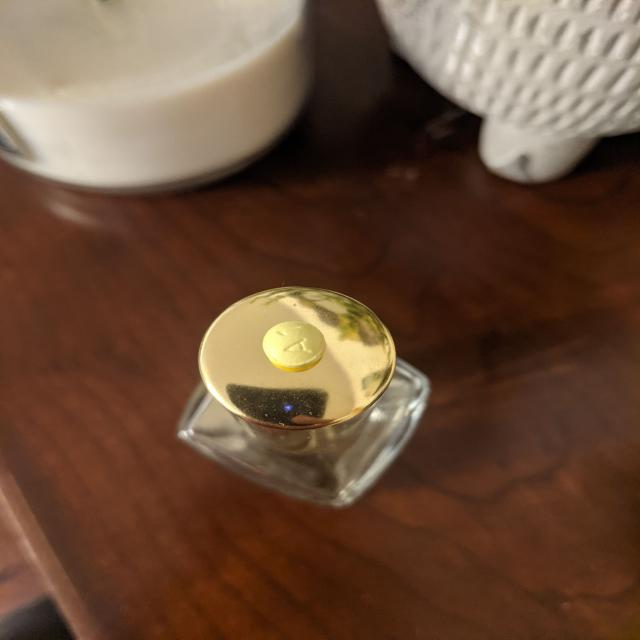non-organic waste: (262, 320, 327, 369)
